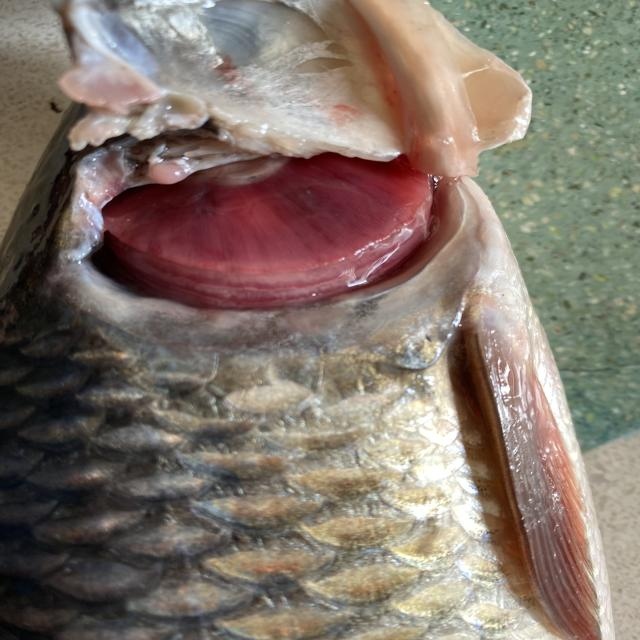Fresh: (42, 124, 482, 330)
